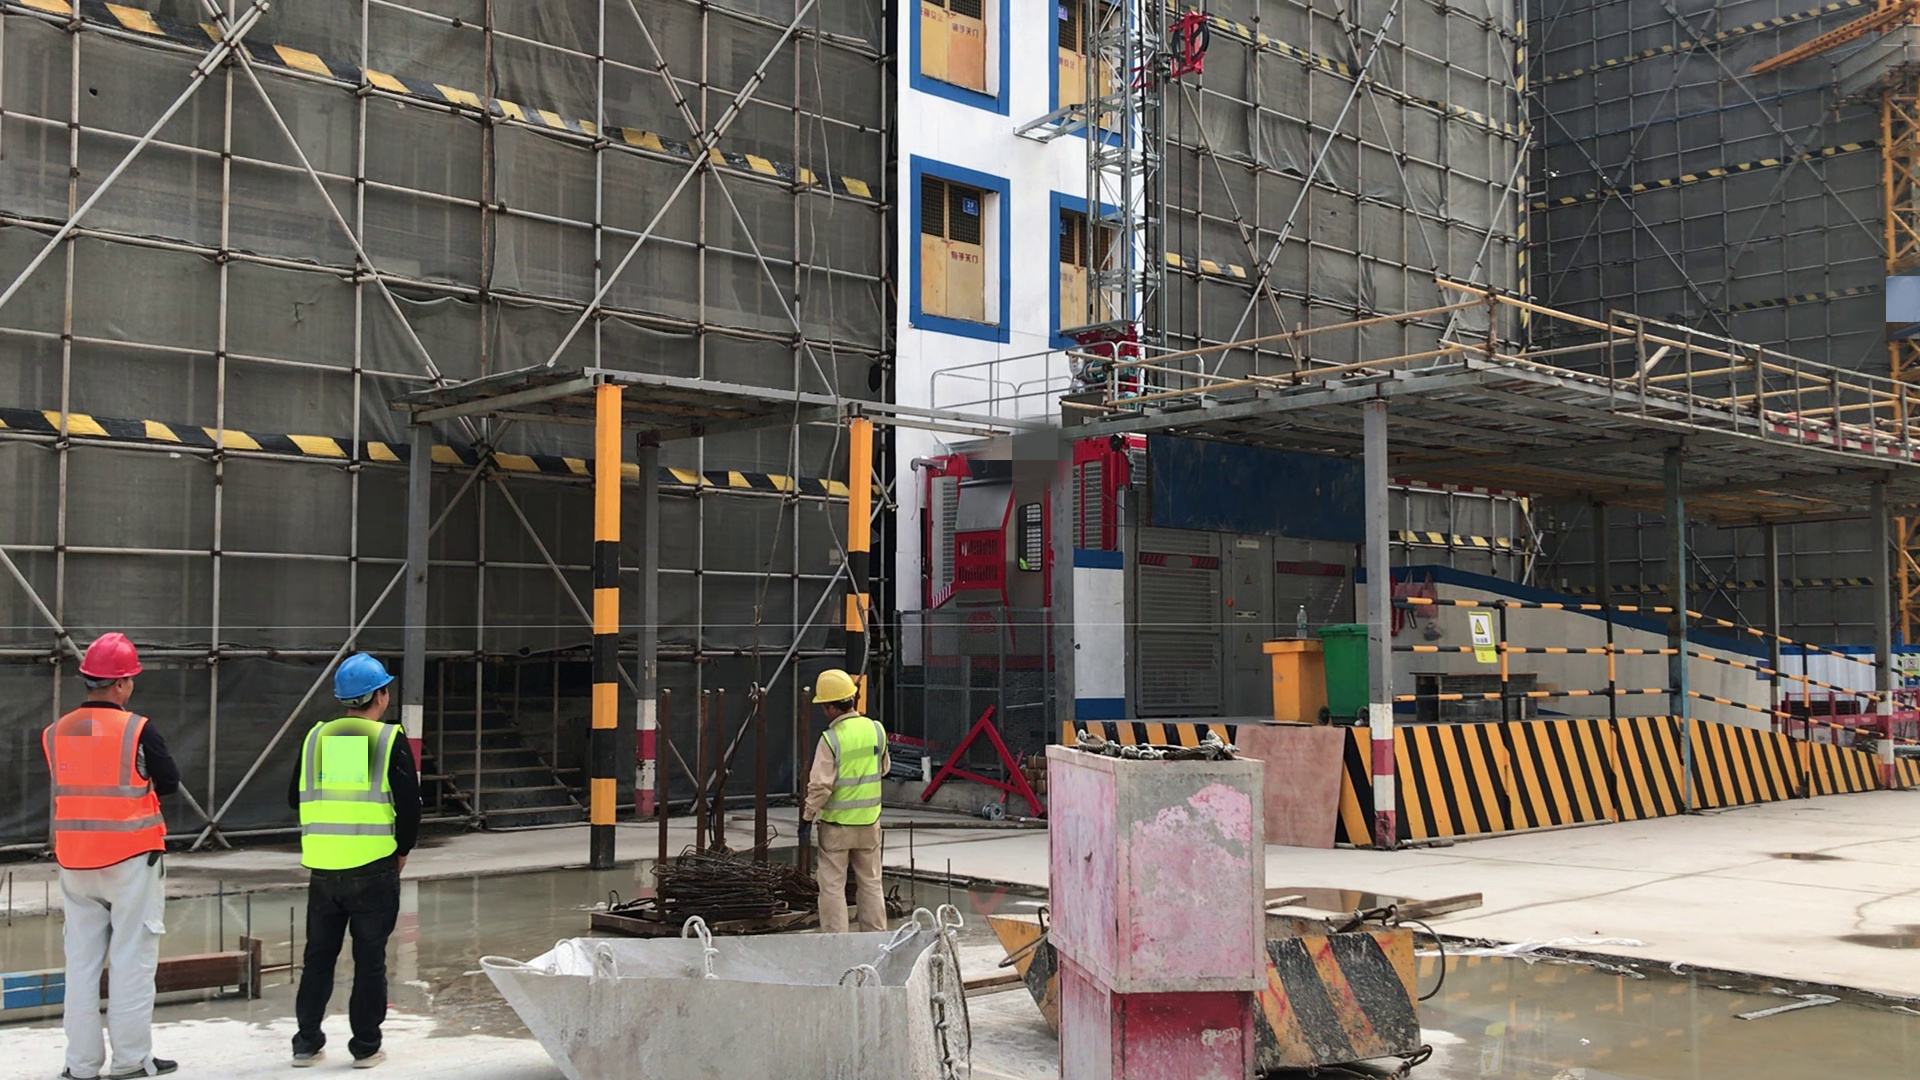fence: (1386, 564, 1918, 789)
helmet: (76, 628, 147, 685), (328, 644, 398, 700), (811, 666, 868, 712)
hopper: (977, 873, 1453, 1068), (477, 909, 985, 1080)
person: (43, 625, 186, 1080), (290, 648, 425, 1077), (797, 669, 897, 933)
slogan: (1464, 606, 1510, 681)
vest: (293, 707, 413, 886), (39, 711, 162, 875), (814, 715, 890, 834)
